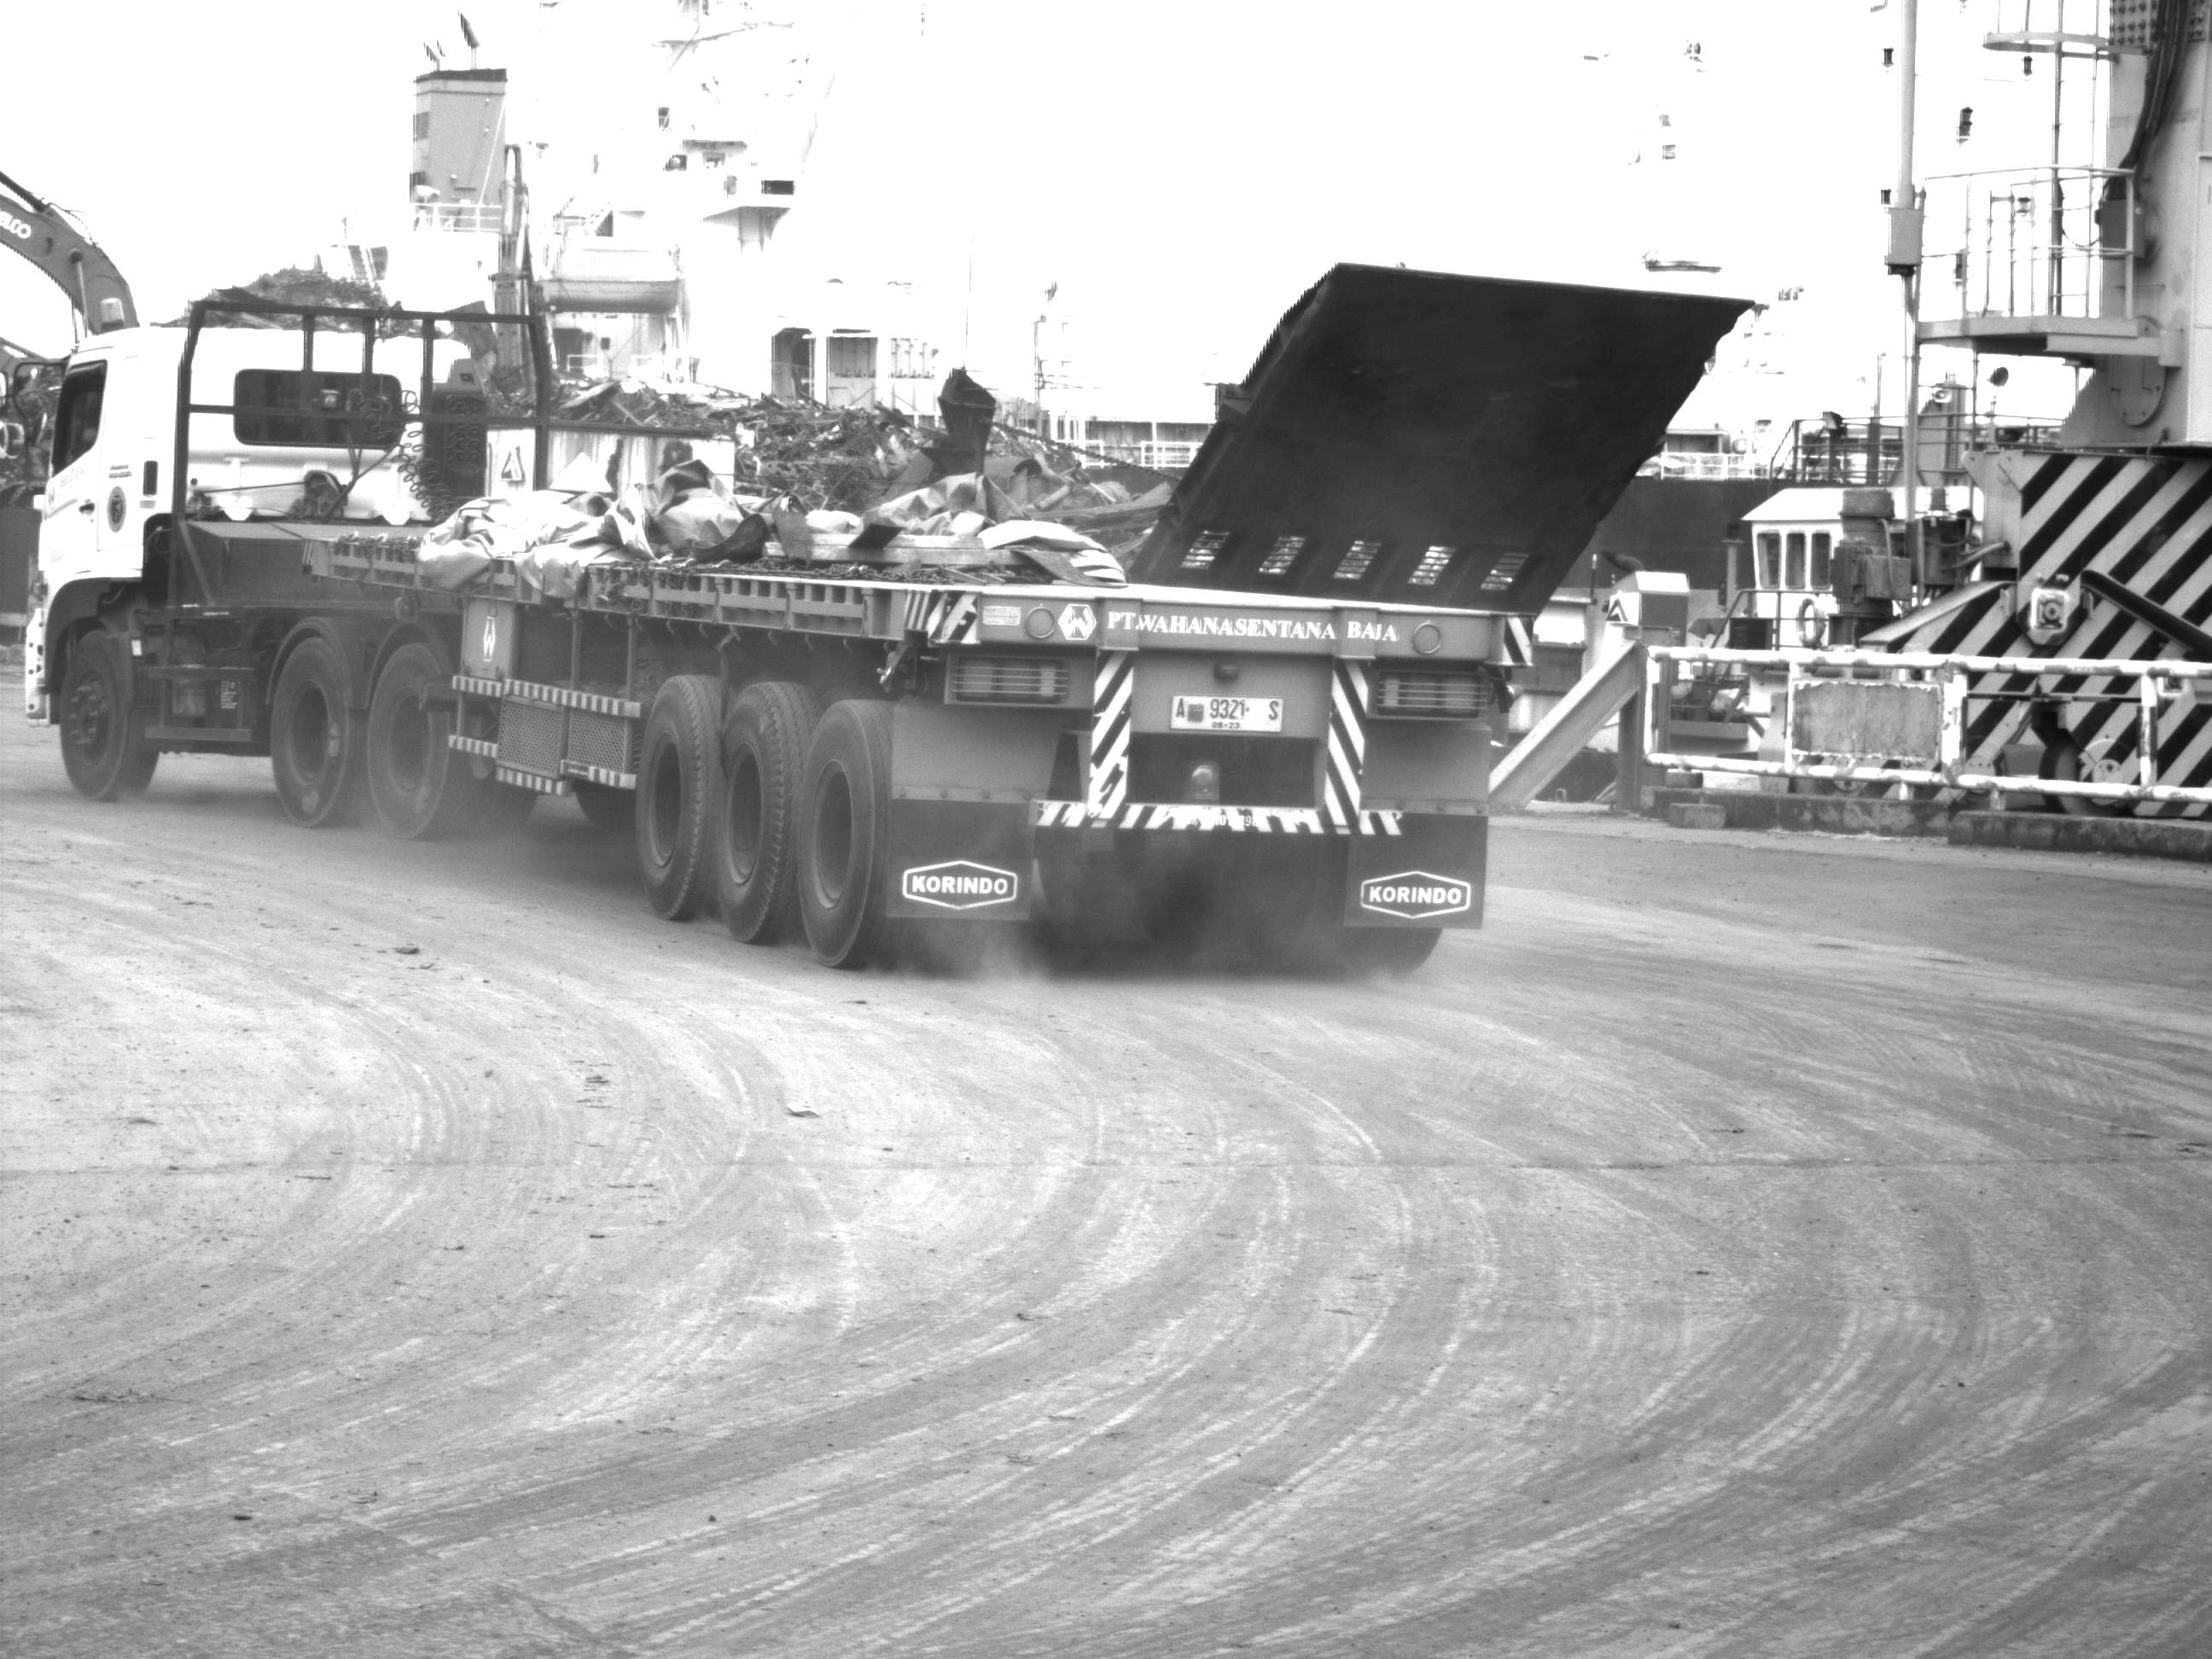number_plate: (1163, 688, 1296, 743)
truck_backside: (26, 294, 1519, 976)
